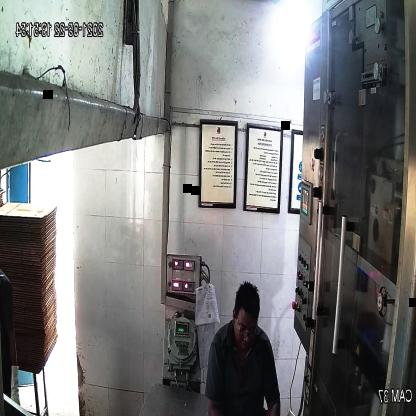goggles: (235, 319, 261, 346)
